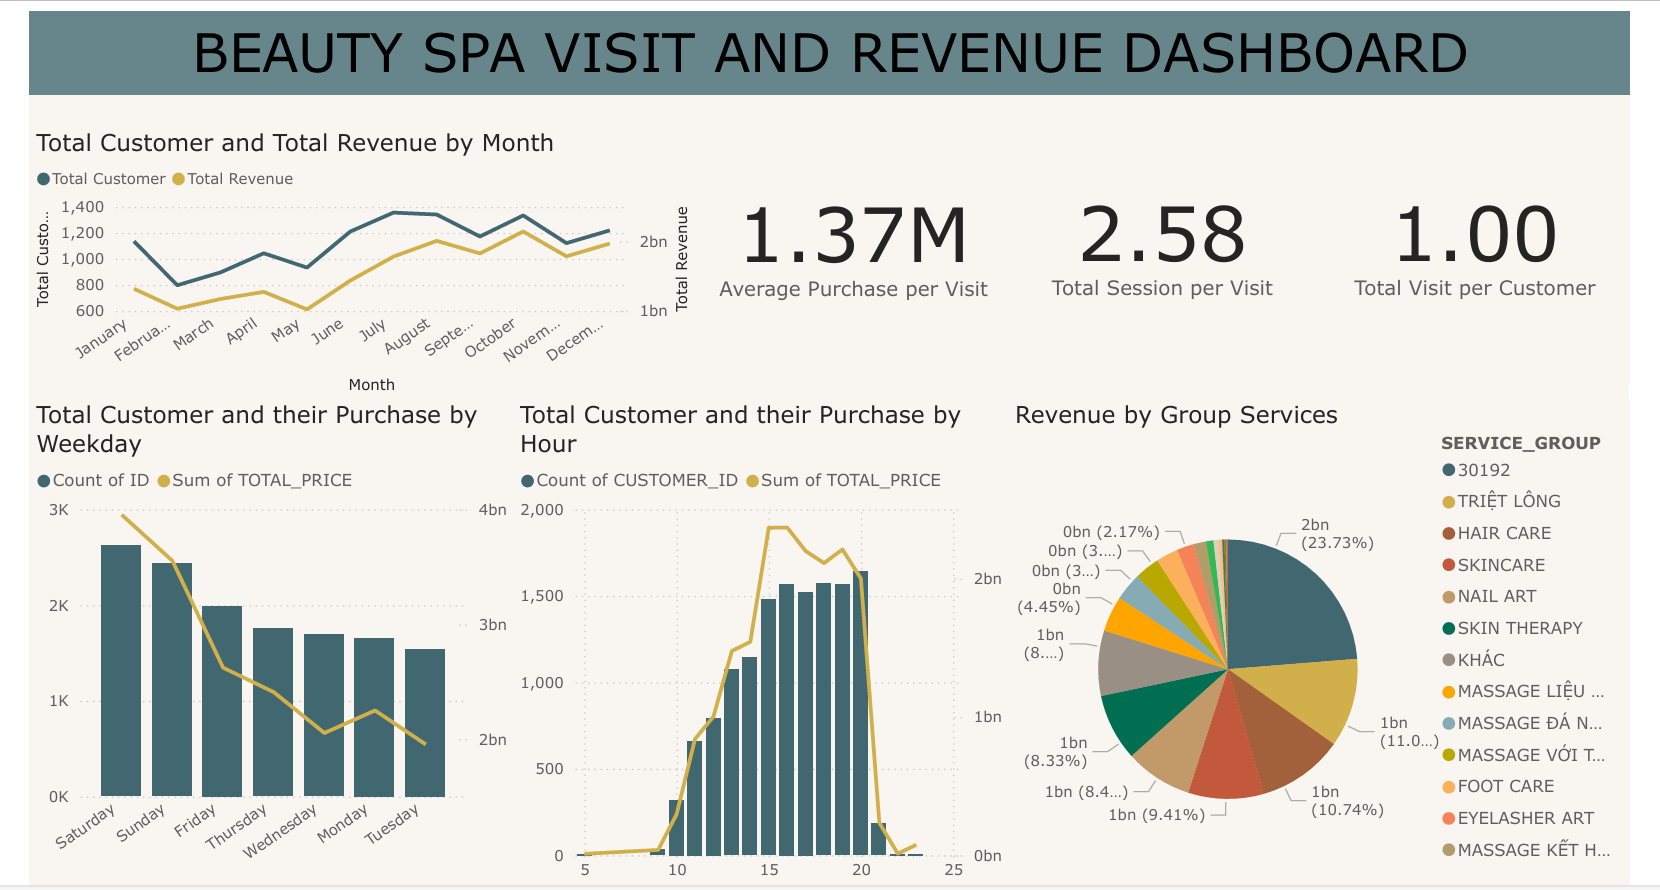

The page's visual inventory and layout, read from the dashboard file:
{"tool":"powerbi","page":{"name":"Page 1","canvas":[1280,720],"ordinal":0},"visuals":[{"type":"lineChart","fields":{"Category":["VISIT_2022.DATE_TIME.Variation.Date Hierarchy.Month","VISIT_2022.DATE_TIME.Variation.Date Hierarchy.Day"],"Y":["CountNonNull(VISIT_2022.CUSTOMER_ID)"],"Y2":["Sum(VISIT_2022.TOTAL_PRICE)"]},"box":[0,91.9,534.7,218],"z":0},{"type":"card","fields":{"Values":["Sum(AVG_PURCHASE_PER_VISIT.AVG_PURCHASE_PER_VISIT)"]},"box":[534.7,82.3,248.2,202.9],"z":1000},{"type":"card","fields":{"Values":["Sum(AVG_SESSION_PER VISIT.AVG_SESSION_PER VISIT)"]},"box":[781.5,67.2,249.5,230.3],"z":2000},{"type":"card","fields":{"Values":["Sum(AVG_VISIT.AVG_VISIT)"]},"box":[1031,67.2,249.5,230.3],"z":3000},{"type":"pieChart","title":"Revenue by Group Services","fields":{"Category":["SERVICE_2022.SERVICE_GROUP"],"Y":["Sum(SERVICE_2022.SERVICE_REVENUE)"]},"box":[782.9,309.9,497.7,409.9],"z":4000},{"type":"lineStackedColumnComboChart","title":"Total Customer and their Purchase by Hour","fields":{"Category":["VISIT_DAY_HOUR.HOUR"],"Y":["CountNonNull(VISIT_DAY_HOUR.CUSTOMER_ID)"],"Y2":["Sum(VISIT_DAY_HOUR.TOTAL_PRICE)"]},"box":[386.6,309.9,396.2,409.9],"z":5000},{"type":"lineStackedColumnComboChart","title":"Total Customer and their Purchase by Weekday","fields":{"Category":["VISIT_DAY_HOUR.WEEKDAY"],"Y":["CountNonNull(VISIT_DAY_HOUR.ID)"],"Y2":["Sum(VISIT_DAY_HOUR.TOTAL_PRICE)"]},"box":[0,309.9,386.6,409.9],"z":6000},{"type":"textbox","box":[0,0,1280.6,67.2],"z":7000}]}

Visuals, with their boxes on the page's 1280x720 design canvas (x1, y1, x2, y2). These are canvas units, not pixel positions in the 1660x890 screenshot, which may show the page scaled, cropped or inside an application window:
lineChart - VISIT_2022.DATE_TIME.Variation.Date Hierarchy.Month x VISIT_2022.DATE_TIME.Variation.Date Hierarchy.Day: box(0, 92, 535, 310)
card - Sum(AVG_PURCHASE_PER_VISIT.AVG_PURCHASE_PER_VISIT): box(535, 82, 783, 285)
card - Sum(AVG_SESSION_PER VISIT.AVG_SESSION_PER VISIT): box(782, 67, 1031, 298)
card - Sum(AVG_VISIT.AVG_VISIT): box(1031, 67, 1280, 298)
"Revenue by Group Services" pieChart: box(783, 310, 1281, 720)
"Total Customer and their Purchase by Hour" lineStackedColumnComboChart: box(387, 310, 783, 720)
"Total Customer and their Purchase by Weekday" lineStackedColumnComboChart: box(0, 310, 387, 720)
textbox: box(0, 0, 1281, 67)
